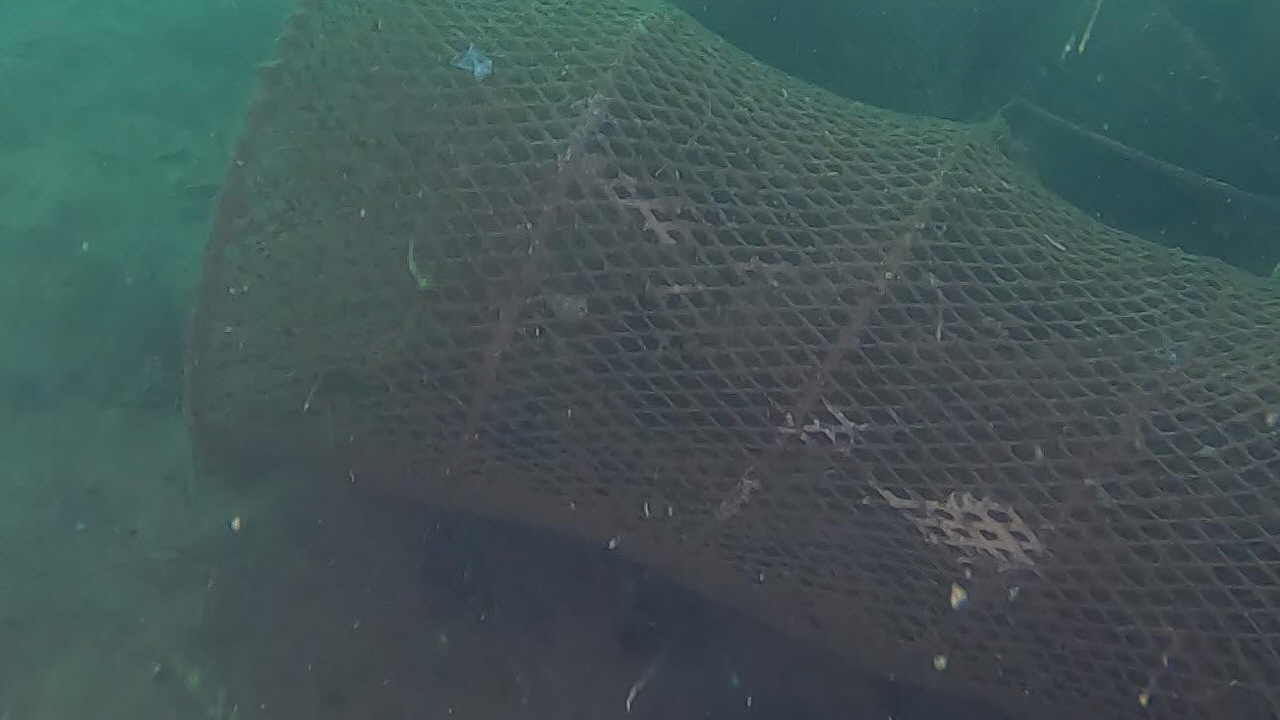spring fish trap: (182, 1, 1280, 720)
